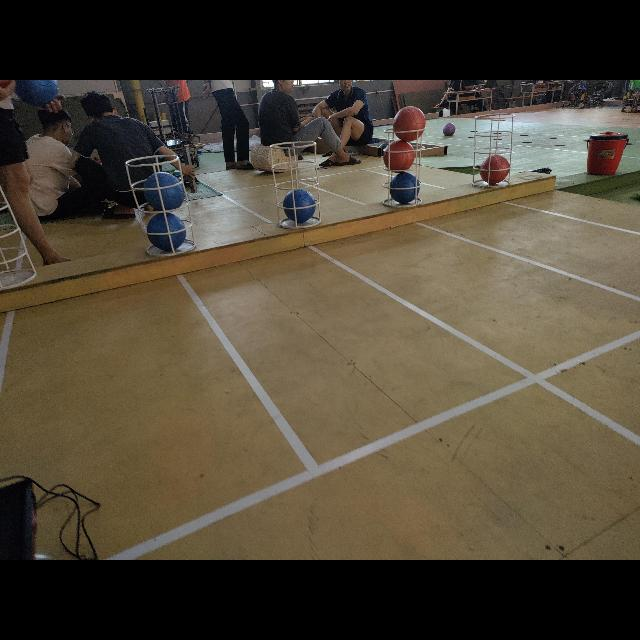B: (143, 171, 183, 211), (147, 213, 185, 253), (284, 188, 316, 222), (14, 81, 58, 105), (391, 174, 422, 206)
R: (394, 106, 426, 140), (384, 140, 414, 172), (479, 153, 509, 184)
